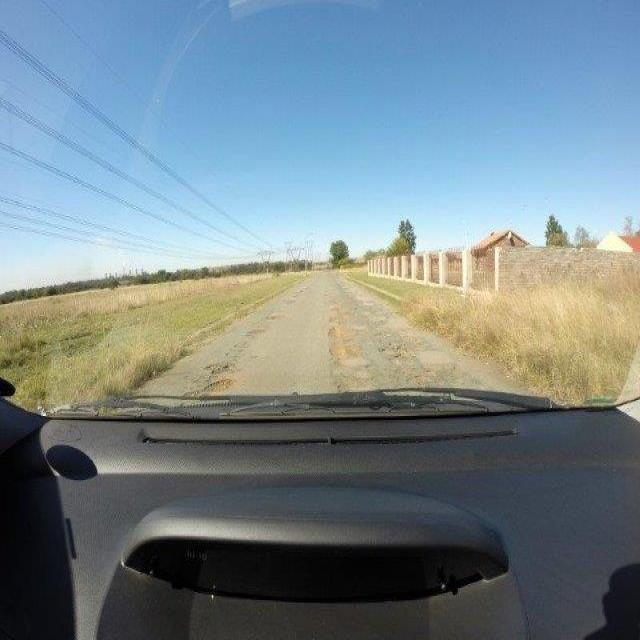lubang: (325, 321, 362, 363), (198, 357, 238, 393), (376, 340, 414, 363), (336, 369, 376, 390), (243, 324, 268, 340), (264, 313, 282, 325), (286, 298, 300, 308)
